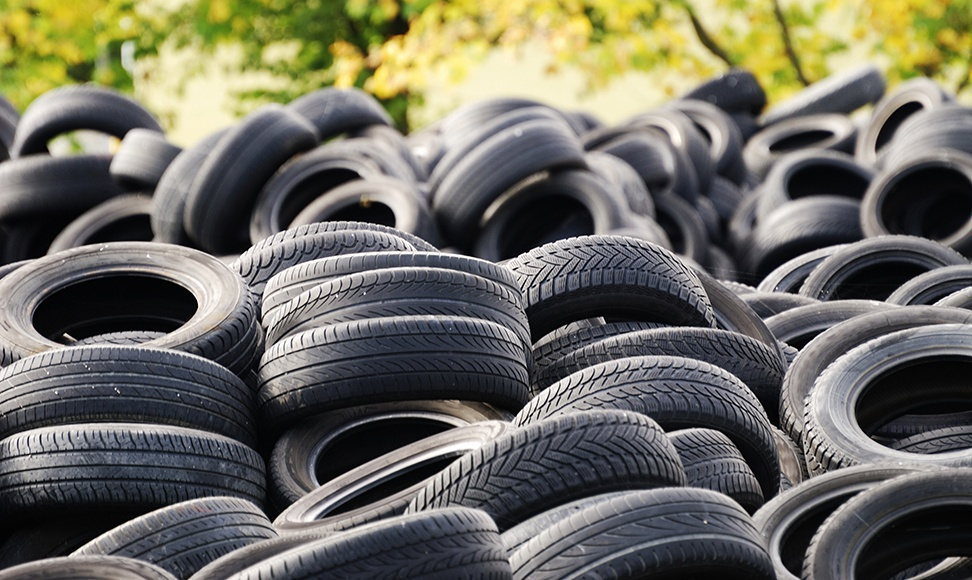tire: (397, 416, 697, 541), (1, 248, 263, 377), (485, 478, 773, 580), (801, 325, 972, 477), (1, 436, 278, 526), (231, 330, 555, 403), (462, 241, 715, 330), (178, 114, 328, 253), (260, 268, 531, 344), (1, 353, 263, 431), (240, 509, 511, 580), (812, 471, 969, 580), (428, 121, 585, 223), (83, 496, 287, 573), (474, 168, 651, 250), (54, 193, 204, 269), (726, 193, 867, 268), (854, 159, 972, 242)
